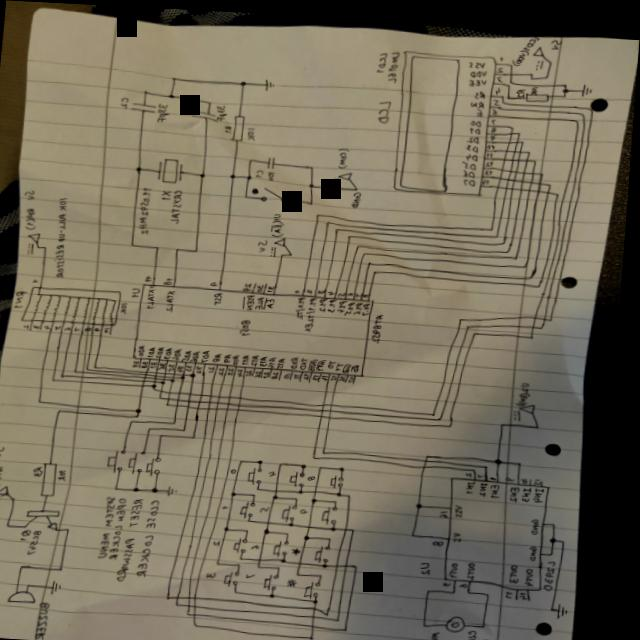capacitor: (192, 107, 220, 118), (132, 99, 159, 110), (268, 151, 278, 166)
crossover: (313, 518, 320, 525), (181, 394, 187, 399), (230, 403, 236, 408), (243, 391, 249, 396), (534, 317, 540, 322), (539, 174, 545, 179), (530, 173, 536, 178), (273, 516, 279, 521), (211, 403, 218, 407), (537, 182, 544, 186), (429, 453, 436, 457), (319, 485, 326, 489), (173, 387, 178, 392), (172, 393, 177, 398), (194, 388, 199, 393), (222, 390, 227, 395), (529, 181, 534, 186), (503, 151, 508, 156), (505, 142, 510, 147), (213, 390, 219, 394), (213, 396, 219, 400), (241, 404, 247, 408), (536, 309, 542, 313), (547, 183, 553, 187), (531, 165, 537, 169), (509, 66, 515, 70), (428, 459, 434, 463), (265, 553, 271, 557), (305, 556, 311, 560), (201, 592, 207, 596), (195, 600, 200, 604), (183, 387, 187, 392), (180, 400, 185, 404), (191, 401, 196, 405), (192, 395, 197, 399), (205, 389, 210, 393), (203, 396, 208, 400), (201, 402, 206, 406), (222, 396, 226, 401), (220, 402, 224, 407), (233, 391, 238, 395), (232, 398, 237, 402), (242, 399, 247, 403), (333, 410, 338, 414), (546, 310, 551, 314), (521, 180, 526, 184), (523, 164, 528, 168), (518, 151, 522, 156), (512, 151, 517, 155), (500, 170, 505, 174), (501, 161, 506, 165), (513, 143, 518, 147), (342, 558, 347, 562), (351, 558, 356, 562), (281, 485, 286, 489), (184, 592, 189, 596), (201, 600, 206, 604), (321, 601, 326, 605), (320, 609, 324, 614), (319, 619, 324, 623), (201, 609, 206, 613), (165, 386, 169, 390), (324, 409, 328, 413), (326, 403, 330, 407), (327, 398, 331, 402), (335, 397, 339, 401), (334, 403, 338, 407), (522, 172, 526, 176), (516, 163, 520, 167), (514, 172, 518, 176), (512, 180, 516, 184), (526, 151, 530, 155), (519, 143, 523, 147), (510, 162, 514, 166), (508, 171, 512, 175), (506, 179, 510, 183), (498, 179, 502, 183), (509, 134, 513, 138), (516, 133, 520, 137), (511, 125, 515, 129), (351, 522, 355, 526), (196, 592, 200, 596), (150, 367, 155, 370), (146, 381, 150, 384), (147, 376, 151, 379), (148, 373, 152, 376), (159, 368, 163, 371), (158, 377, 162, 380), (177, 369, 181, 372), (186, 369, 190, 372), (167, 375, 172, 377), (149, 370, 153, 372), (168, 369, 172, 371), (168, 372, 172, 374), (159, 371, 163, 373), (159, 374, 163, 376), (176, 373, 180, 375)
ground: (58, 576, 71, 593), (263, 73, 277, 88), (564, 595, 577, 611), (581, 75, 594, 90), (172, 482, 185, 493)
junction: (156, 482, 166, 490), (500, 450, 509, 458), (336, 520, 345, 527), (262, 454, 271, 461), (138, 483, 148, 489), (309, 177, 317, 184), (317, 629, 325, 636), (173, 590, 181, 597), (422, 496, 430, 503), (137, 163, 145, 170), (200, 168, 209, 174), (230, 169, 239, 175), (61, 406, 70, 412), (344, 461, 353, 467), (270, 524, 279, 530), (242, 558, 251, 564), (492, 584, 499, 591), (311, 529, 318, 536), (310, 159, 317, 166), (351, 621, 358, 628), (244, 454, 252, 460), (168, 90, 176, 96), (429, 616, 437, 622), (240, 76, 248, 82), (119, 482, 127, 488), (306, 458, 314, 464), (222, 556, 230, 562), (316, 207, 324, 213), (506, 241, 514, 247), (342, 486, 350, 492), (320, 593, 328, 599), (177, 243, 184, 249), (310, 195, 317, 201), (557, 529, 564, 535), (568, 530, 574, 537), (488, 616, 495, 622), (72, 524, 79, 530), (230, 521, 237, 527), (504, 414, 510, 421), (65, 563, 72, 569), (132, 239, 139, 245), (251, 523, 258, 529), (246, 551, 252, 558), (237, 486, 243, 493), (461, 311, 469, 316), (329, 558, 337, 563), (140, 405, 148, 410), (295, 517, 303, 522), (491, 219, 497, 225), (557, 514, 563, 520), (523, 454, 529, 460), (561, 82, 570, 86), (246, 190, 252, 196), (318, 492, 324, 498), (334, 531, 340, 537), (157, 242, 164, 247), (171, 73, 178, 78), (12, 521, 19, 526), (27, 562, 34, 567), (433, 582, 440, 587), (143, 87, 150, 92), (539, 417, 546, 422), (539, 164, 546, 169), (503, 234, 510, 239), (284, 457, 291, 462), (364, 246, 371, 251), (278, 490, 285, 495), (332, 606, 339, 611), (589, 100, 596, 105), (506, 89, 513, 94), (277, 589, 285, 593), (527, 143, 533, 148), (533, 152, 539, 157), (525, 257, 531, 262), (453, 417, 459, 422), (327, 445, 333, 450), (248, 171, 254, 176), (249, 154, 255, 159), (97, 362, 103, 367), (34, 581, 40, 586), (183, 599, 189, 604), (343, 612, 349, 617), (517, 124, 523, 129), (185, 371, 191, 376), (195, 369, 201, 374), (157, 380, 163, 385), (305, 484, 311, 489), (556, 185, 563, 189), (548, 175, 555, 179), (430, 448, 437, 452), (201, 619, 208, 623), (64, 372, 71, 376), (515, 249, 522, 253), (441, 411, 448, 415), (300, 491, 307, 495), (324, 460, 331, 464), (339, 494, 346, 498), (177, 417, 184, 421), (555, 544, 562, 548), (509, 73, 514, 78), (196, 245, 202, 249), (42, 397, 48, 401), (533, 328, 539, 332), (241, 586, 247, 590), (375, 265, 381, 269), (153, 424, 159, 428), (77, 367, 83, 371), (359, 239, 365, 243), (496, 228, 502, 232), (531, 269, 537, 273), (539, 277, 545, 281), (469, 318, 475, 322), (476, 325, 482, 329), (318, 451, 324, 455), (370, 256, 376, 260), (349, 230, 355, 234), (337, 223, 343, 227), (328, 216, 334, 220), (194, 609, 200, 613), (288, 554, 294, 558), (264, 561, 270, 565), (292, 526, 298, 530), (258, 488, 264, 492), (353, 488, 359, 492), (303, 568, 309, 572), (326, 569, 332, 573), (197, 432, 203, 436), (574, 112, 580, 116), (580, 105, 586, 109), (562, 76, 568, 80), (510, 119, 516, 123), (291, 248, 297, 252), (417, 527, 423, 531), (459, 583, 465, 587), (474, 583, 480, 587), (558, 600, 564, 604), (165, 377, 171, 381), (357, 523, 363, 527), (135, 416, 140, 420), (543, 318, 548, 322), (552, 310, 557, 314), (437, 406, 442, 410), (56, 376, 61, 380), (18, 495, 23, 499), (285, 560, 289, 565), (254, 515, 259, 519), (165, 430, 170, 434), (188, 424, 193, 428), (562, 87, 567, 91), (529, 69, 534, 73), (545, 68, 550, 72), (490, 458, 495, 462), (478, 462, 483, 466), (208, 97, 213, 101), (47, 243, 51, 248), (355, 183, 361, 186), (170, 400, 176, 403), (362, 559, 366, 563), (90, 365, 94, 369), (263, 482, 267, 486), (549, 53, 553, 57), (164, 392, 168, 396), (510, 57, 514, 61), (40, 243, 44, 247), (502, 95, 507, 98), (529, 65, 534, 68), (521, 134, 525, 137), (141, 412, 145, 415), (501, 88, 505, 91), (283, 249, 287, 252), (176, 376, 180, 379), (507, 77, 511, 79), (157, 385, 161, 387)
resistor: (47, 460, 66, 495), (231, 110, 249, 138), (526, 85, 550, 96)
switch: (262, 183, 291, 200), (134, 447, 152, 472), (151, 452, 169, 474), (114, 448, 131, 470), (230, 565, 249, 583), (312, 576, 330, 594), (288, 499, 305, 518), (271, 568, 288, 587), (322, 540, 339, 559), (328, 501, 345, 520), (246, 496, 263, 514), (280, 535, 298, 552), (254, 462, 270, 481), (295, 465, 312, 482), (240, 533, 256, 549), (336, 469, 352, 484)
terminal: (523, 396, 542, 406), (2, 483, 16, 495), (340, 165, 355, 176), (31, 230, 44, 242), (276, 232, 290, 243), (532, 39, 546, 49)
text: (124, 494, 151, 580), (145, 494, 168, 574), (55, 195, 75, 277), (116, 494, 135, 558), (105, 493, 124, 556), (511, 28, 540, 60), (139, 183, 157, 232), (44, 598, 61, 637), (171, 186, 186, 222), (385, 45, 401, 77), (308, 292, 322, 328), (374, 308, 389, 338), (34, 527, 50, 554), (551, 552, 565, 582), (26, 203, 42, 229), (520, 375, 537, 399), (273, 209, 288, 233), (377, 95, 392, 118), (468, 622, 487, 640), (375, 45, 389, 68), (157, 100, 172, 121), (337, 142, 352, 163), (17, 288, 32, 307), (298, 291, 309, 316), (516, 557, 529, 577), (169, 287, 180, 310), (0, 464, 11, 487), (0, 590, 9, 618), (243, 314, 256, 333), (434, 624, 449, 640), (150, 285, 161, 306), (246, 290, 260, 306), (456, 555, 469, 572), (539, 479, 552, 496), (496, 475, 508, 493), (472, 555, 484, 573), (426, 554, 440, 569), (216, 101, 229, 117), (515, 479, 528, 495), (484, 474, 496, 491), (532, 561, 543, 579), (348, 296, 361, 311), (353, 186, 364, 203), (537, 511, 548, 527), (535, 538, 546, 554), (468, 72, 487, 81), (462, 154, 479, 164), (216, 287, 228, 301), (0, 444, 12, 458), (260, 234, 271, 249), (322, 293, 333, 308), (460, 497, 471, 512), (470, 63, 488, 72), (528, 479, 538, 495), (549, 31, 562, 43), (27, 527, 40, 539), (247, 123, 258, 137), (331, 294, 342, 308), (471, 473, 482, 487), (258, 292, 269, 306), (484, 630, 499, 640), (468, 54, 486, 62), (267, 293, 279, 305), (357, 296, 368, 309), (341, 294, 352, 307), (26, 188, 39, 199), (293, 573, 307, 583), (160, 342, 170, 356), (63, 467, 74, 479), (321, 354, 332, 366), (312, 354, 323, 366), (186, 346, 197, 358), (121, 94, 131, 107), (162, 187, 175, 197), (272, 351, 282, 364), (366, 297, 375, 311), (134, 284, 145, 295), (257, 164, 268, 175), (470, 94, 485, 102), (195, 347, 205, 359), (177, 345, 187, 357), (168, 344, 178, 356), (465, 172, 478, 181), (474, 84, 487, 93), (206, 346, 215, 359), (516, 81, 527, 91), (268, 167, 278, 178), (459, 525, 470, 535), (346, 358, 357, 368), (465, 163, 477, 172), (295, 352, 304, 364), (282, 353, 291, 365), (467, 130, 482, 137), (467, 147, 480, 155), (467, 138, 480, 146), (256, 350, 264, 363), (40, 464, 50, 474), (167, 273, 178, 282), (181, 101, 192, 110), (527, 584, 538, 593), (264, 351, 273, 362), (142, 342, 151, 353), (152, 343, 161, 354), (446, 633, 460, 640), (124, 300, 132, 312), (305, 353, 313, 365), (470, 121, 483, 128), (299, 542, 309, 551), (446, 503, 456, 512), (246, 350, 255, 360), (228, 349, 237, 359), (217, 349, 227, 358), (214, 567, 225, 575), (266, 501, 277, 509), (246, 279, 257, 287), (237, 350, 245, 361), (258, 365, 267, 374), (213, 276, 223, 284), (531, 79, 539, 89), (513, 583, 522, 591), (226, 121, 234, 130), (511, 469, 523, 475), (440, 534, 452, 540), (471, 114, 483, 120), (476, 102, 484, 111), (137, 356, 145, 365), (155, 357, 164, 365), (163, 358, 172, 366), (172, 360, 180, 369), (340, 358, 349, 366), (258, 539, 268, 546), (306, 503, 316, 510), (274, 466, 284, 473), (254, 568, 265, 574), (498, 48, 506, 56), (260, 280, 268, 288), (146, 357, 154, 365), (182, 361, 190, 369), (241, 364, 249, 372), (276, 366, 284, 374), (356, 359, 364, 367), (333, 355, 341, 363), (497, 59, 506, 66), (148, 272, 157, 279), (488, 137, 497, 144), (270, 281, 279, 288), (540, 471, 549, 478), (223, 363, 230, 372), (232, 363, 239, 372), (268, 366, 275, 375), (308, 367, 315, 376), (313, 470, 323, 476), (486, 154, 496, 160), (450, 575, 460, 581), (220, 536, 228, 543), (496, 69, 504, 76), (495, 80, 502, 88), (493, 92, 501, 99), (484, 172, 492, 179), (201, 362, 208, 370), (213, 362, 221, 369), (250, 365, 258, 372), (317, 369, 325, 376), (343, 370, 351, 377), (466, 576, 477, 581), (486, 163, 495, 169), (487, 146, 496, 152), (310, 283, 317, 290), (191, 361, 198, 368), (25, 321, 33, 327), (236, 464, 244, 470), (527, 470, 535, 476), (483, 466, 491, 472), (298, 368, 306, 374), (326, 369, 334, 375), (335, 370, 343, 376), (35, 277, 44, 282), (341, 287, 350, 292), (59, 323, 66, 329), (472, 465, 479, 471), (38, 322, 45, 328), (491, 102, 498, 108), (491, 112, 498, 118), (490, 128, 497, 134), (321, 284, 328, 290), (289, 368, 296, 374), (353, 371, 360, 377), (88, 324, 96, 329), (68, 324, 76, 329), (496, 469, 504, 474), (108, 324, 114, 330), (492, 120, 498, 126), (78, 324, 85, 329), (98, 325, 106, 329), (48, 323, 56, 327), (229, 501, 237, 505), (298, 285, 305, 289), (331, 286, 338, 290), (351, 287, 358, 291), (366, 288, 373, 292), (459, 638, 472, 640), (359, 288, 365, 292)
transistor: (30, 505, 68, 529)
